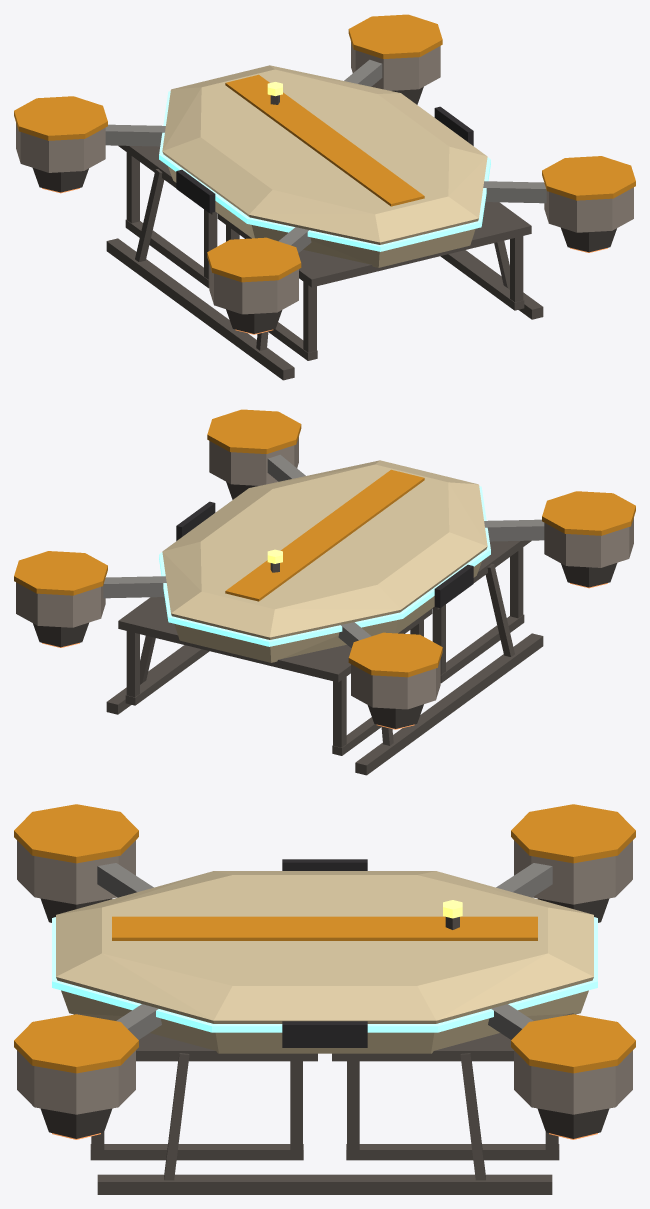
File: dron-baterie.glb
3 renders of one model, top to bottom at view 1: azimuth 30°, elevation 25°; view 2: azimuth 150°, elevation 25°; view 3: azimuth 270°, elevation 25°, orthographic. The views are drawn at different scales.
Visible parts, largest first — view 1: dron; view 2: dron; view 3: dron.
Boxes of the visible parts, x1,y1,x2,y2 form: dron: [14, 14, 635, 380]; dron: [14, 409, 635, 775]; dron: [14, 804, 635, 1194].
Bounding box in the file's own units: 4.38 × 1.62 × 4.38.
